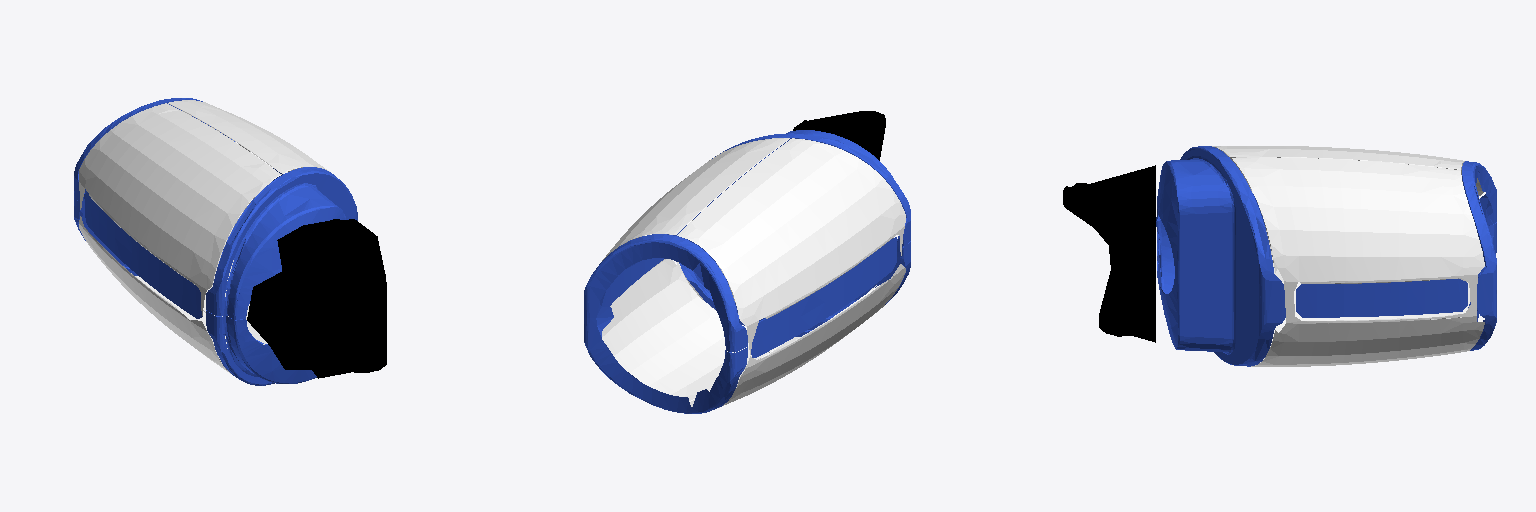
File: sim_ecub_1-1_l_forearm.obj
The picture shows the model from 3 angles: view 1: azimuth 30°, elevation 25°; view 2: azimuth 150°, elevation 25°; view 3: azimuth 270°, elevation 25°; orthographic projection.
Size of the model in its own units: 106 by 106 by 209.